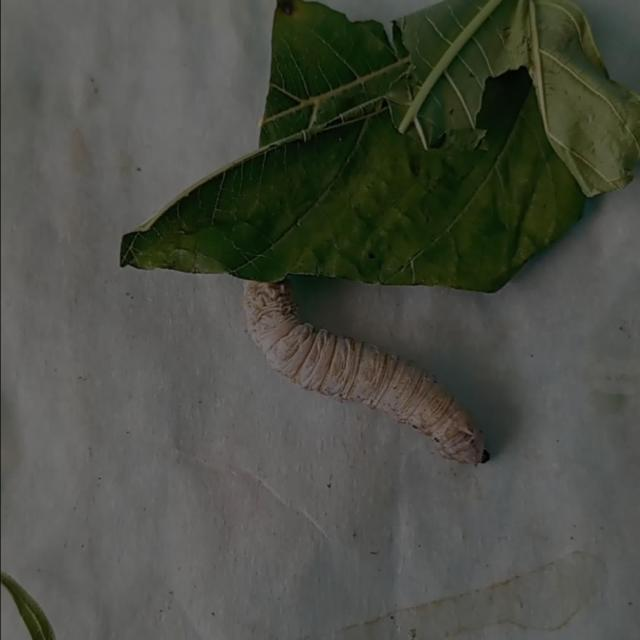Grasserie: (230, 253, 505, 477)
